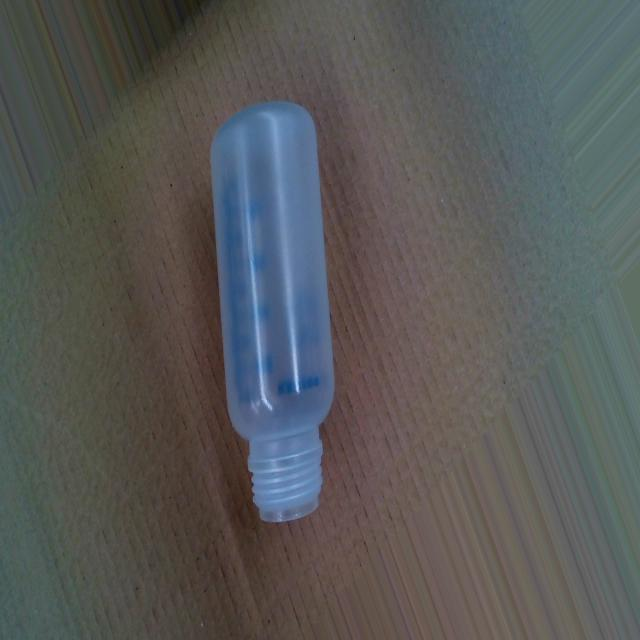bottle: (208, 96, 336, 529)
